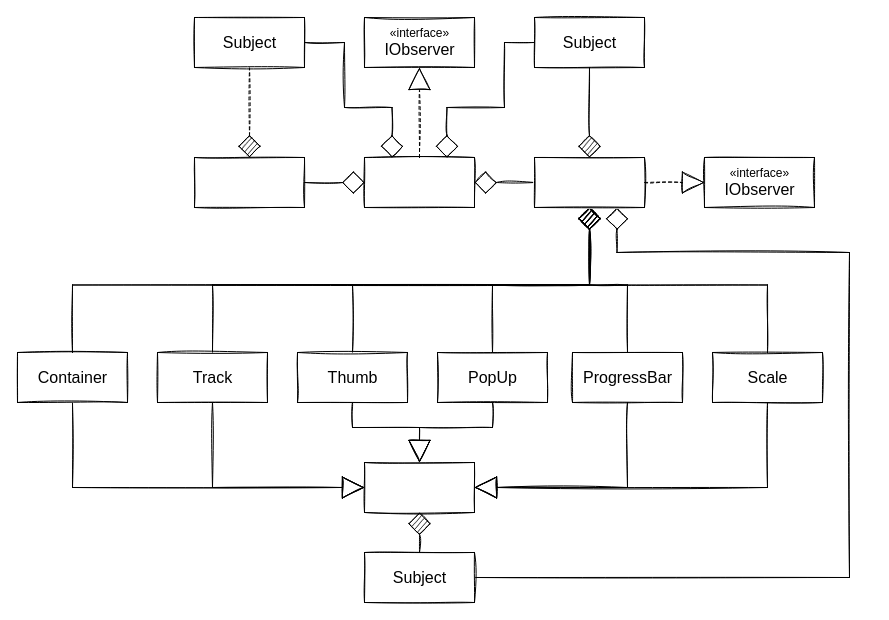
This 889x620 diagram has some shape labels left out. The shapes that lost their labels are listed below. From the top down, each one's centre as x and y in pixels, then its label:
pixel 249 182: Model
pixel 419 182: Controller
pixel 589 182: View
pixel 419 487: Element
